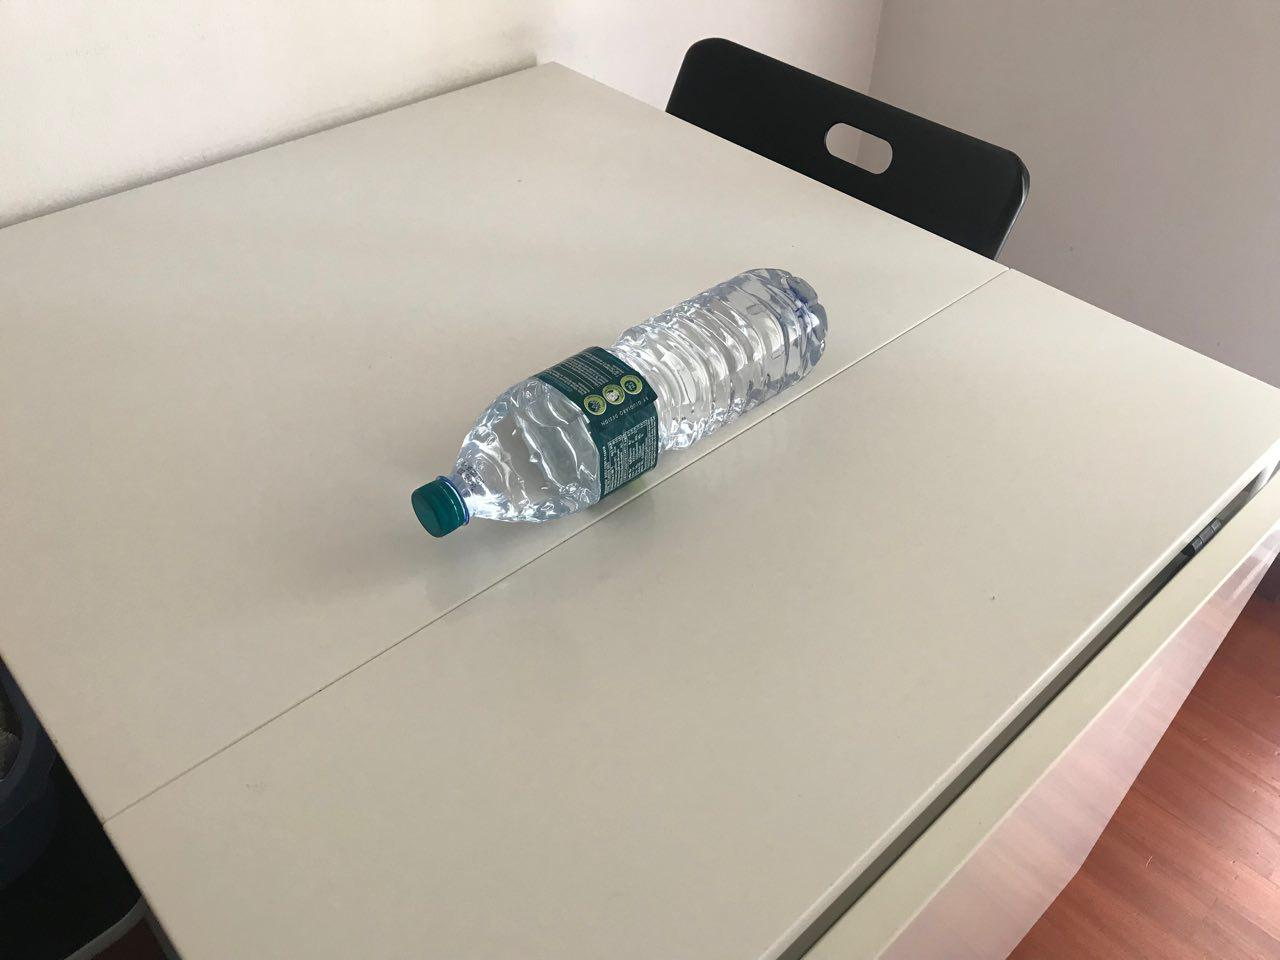san_bernardo: (410, 266, 829, 541)
